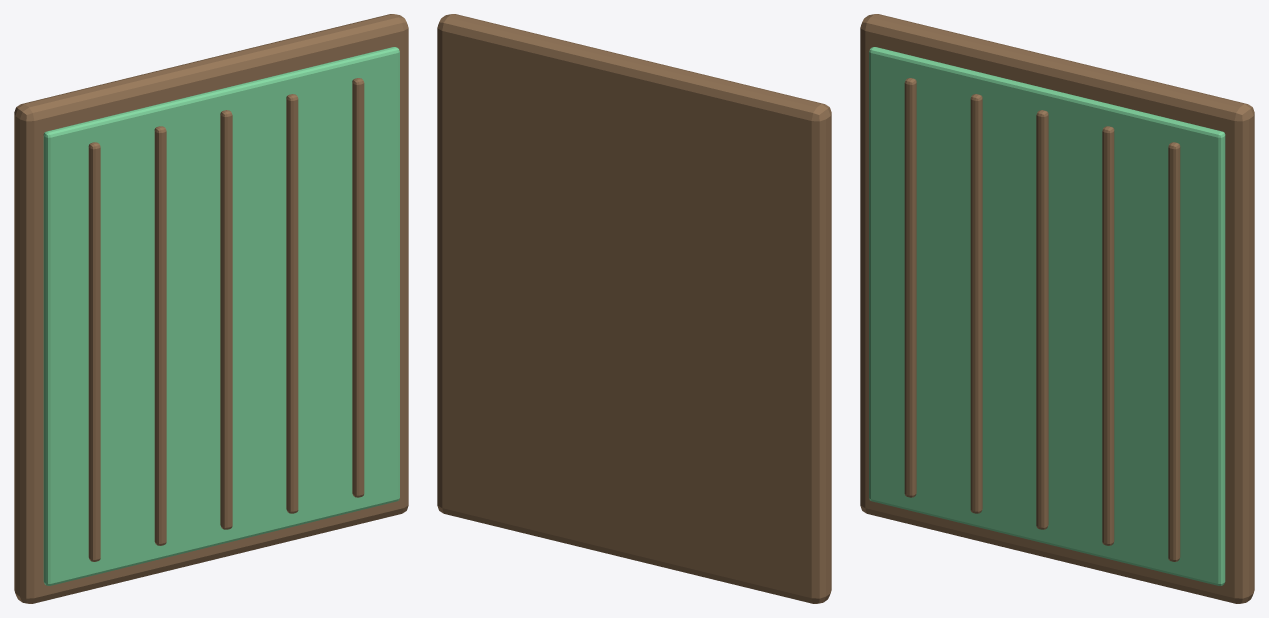
The model's file is decor_quiet_acoustic_panel.glb.
The picture shows the model from 3 angles, left to right: view 1: azimuth 30°, elevation 25°; view 2: azimuth 150°, elevation 25°; view 3: azimuth 330°, elevation 25°; orthographic projection.
Visible parts, largest first — view 1: DEC_QuietAcousticPanel__Fabric, DEC_QuietAcousticPanel__Frame, DEC_QuietAcousticPanel__Slat_2, DEC_QuietAcousticPanel__Slat_0, DEC_QuietAcousticPanel__Slat_1, DEC_QuietAcousticPanel__Slat_3, DEC_QuietAcousticPanel__Slat_4; view 2: DEC_QuietAcousticPanel__Frame; view 3: DEC_QuietAcousticPanel__Fabric, DEC_QuietAcousticPanel__Frame, DEC_QuietAcousticPanel__Slat_2, DEC_QuietAcousticPanel__Slat_0, DEC_QuietAcousticPanel__Slat_1, DEC_QuietAcousticPanel__Slat_3, DEC_QuietAcousticPanel__Slat_4.
Boxes of the visible parts, box(x1,y1,x2,y2) form: DEC_QuietAcousticPanel__Fabric: box(43, 47, 399, 585); DEC_QuietAcousticPanel__Frame: box(14, 14, 408, 603); DEC_QuietAcousticPanel__Slat_2: box(220, 110, 232, 529); DEC_QuietAcousticPanel__Slat_0: box(88, 142, 100, 561); DEC_QuietAcousticPanel__Slat_1: box(154, 126, 166, 545); DEC_QuietAcousticPanel__Slat_3: box(286, 94, 298, 513); DEC_QuietAcousticPanel__Slat_4: box(352, 78, 364, 497); DEC_QuietAcousticPanel__Frame: box(437, 14, 831, 603); DEC_QuietAcousticPanel__Fabric: box(869, 47, 1225, 585); DEC_QuietAcousticPanel__Frame: box(860, 14, 1254, 603); DEC_QuietAcousticPanel__Slat_2: box(1036, 110, 1048, 529); DEC_QuietAcousticPanel__Slat_0: box(904, 78, 916, 497); DEC_QuietAcousticPanel__Slat_1: box(970, 94, 982, 513); DEC_QuietAcousticPanel__Slat_3: box(1102, 126, 1114, 545); DEC_QuietAcousticPanel__Slat_4: box(1168, 142, 1180, 561).
Bounding box in the file's own units: 1.03 × 1.26 × 0.1165.
